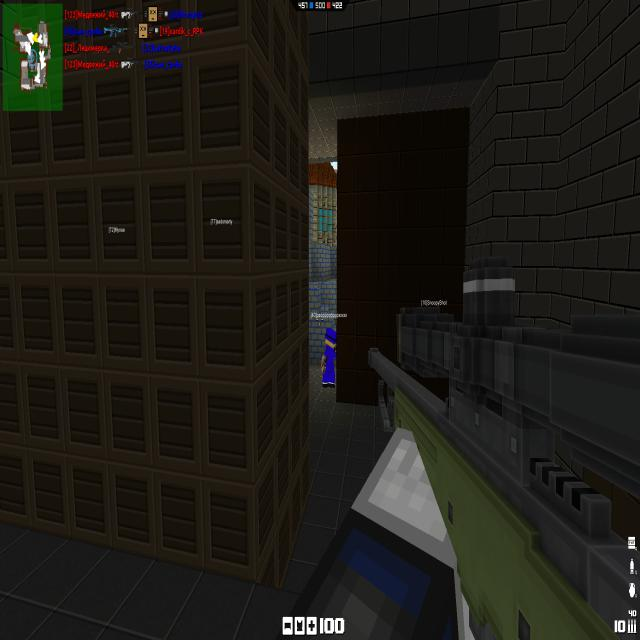player: (322, 327, 337, 389)
